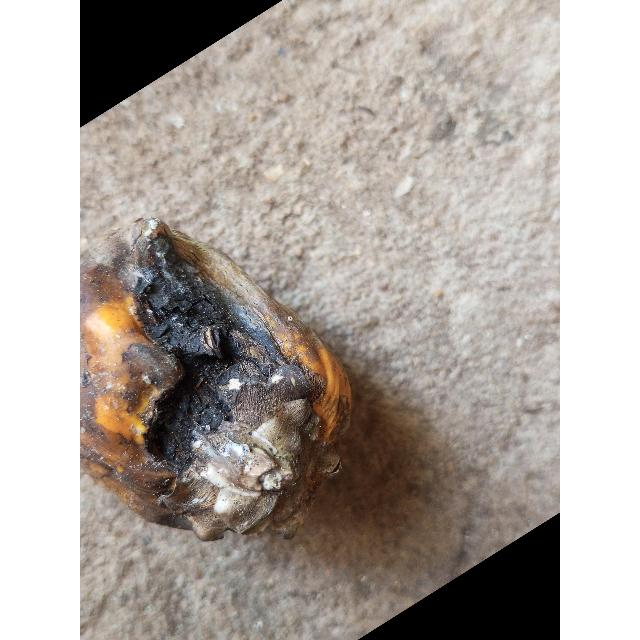damaged: (80, 219, 352, 540)
